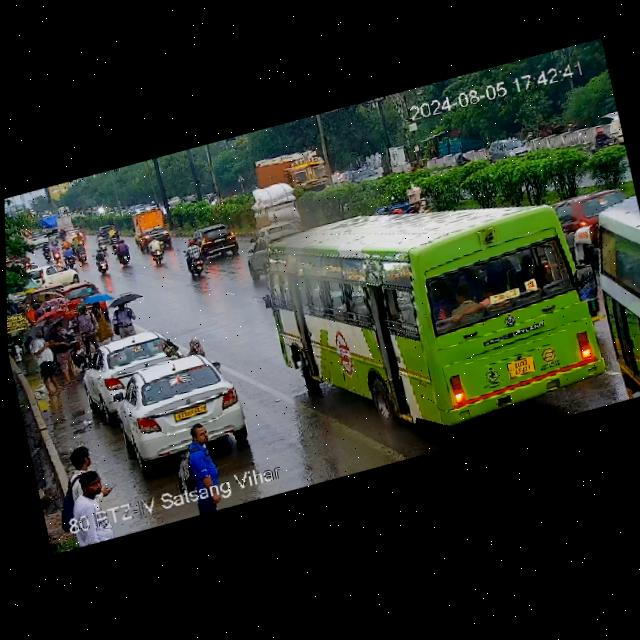bus: (249, 162, 615, 477), (565, 179, 640, 398)
car: (102, 341, 252, 471), (80, 322, 195, 406), (189, 220, 240, 263), (483, 130, 538, 167), (28, 256, 84, 292), (245, 216, 302, 249), (29, 228, 56, 250)
motorcycle: (585, 122, 626, 160), (182, 238, 218, 279), (143, 234, 173, 265), (113, 238, 138, 268), (88, 246, 112, 276), (72, 238, 91, 266), (106, 227, 120, 245), (94, 231, 107, 250)
person: (47, 438, 121, 552), (165, 419, 238, 520), (24, 321, 70, 398), (43, 316, 77, 390), (70, 299, 106, 349), (106, 293, 139, 338), (60, 244, 78, 269)
truck: (244, 140, 341, 206), (128, 203, 171, 247)
